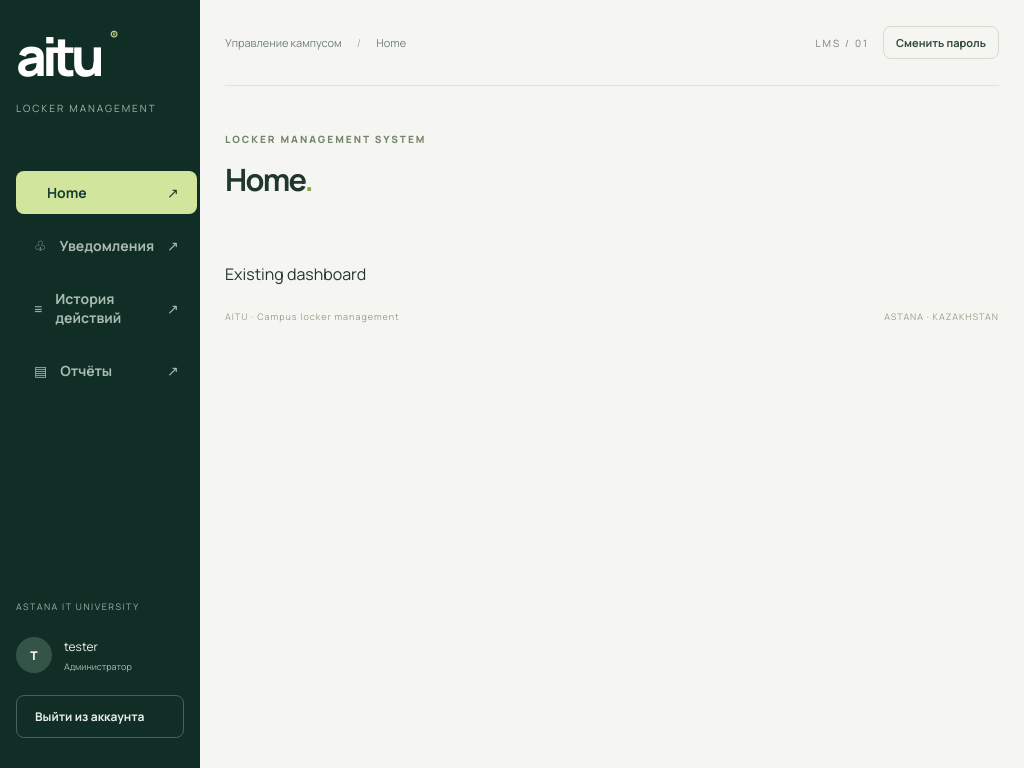
Test case: role navigation › loads administrative resources only when the administrator selects their screen
The width and height of the screenshot is (1024, 768).
Click the button "≡ История действий ↗" at point(106, 308), box left=16, top=277, right=197, bottom=339
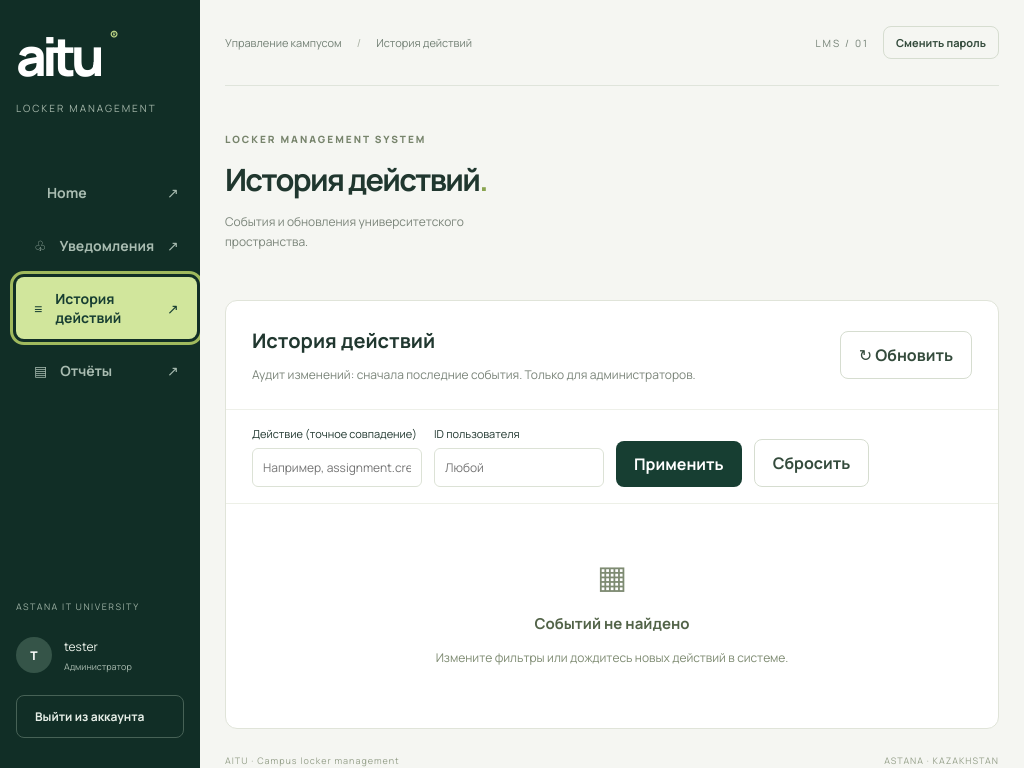
Check: the heading "Событий не найдено" is shown, box left=534, top=613, right=690, bottom=634
Click the button "▤ Отчёты ↗" at point(106, 370), box left=16, top=349, right=197, bottom=392
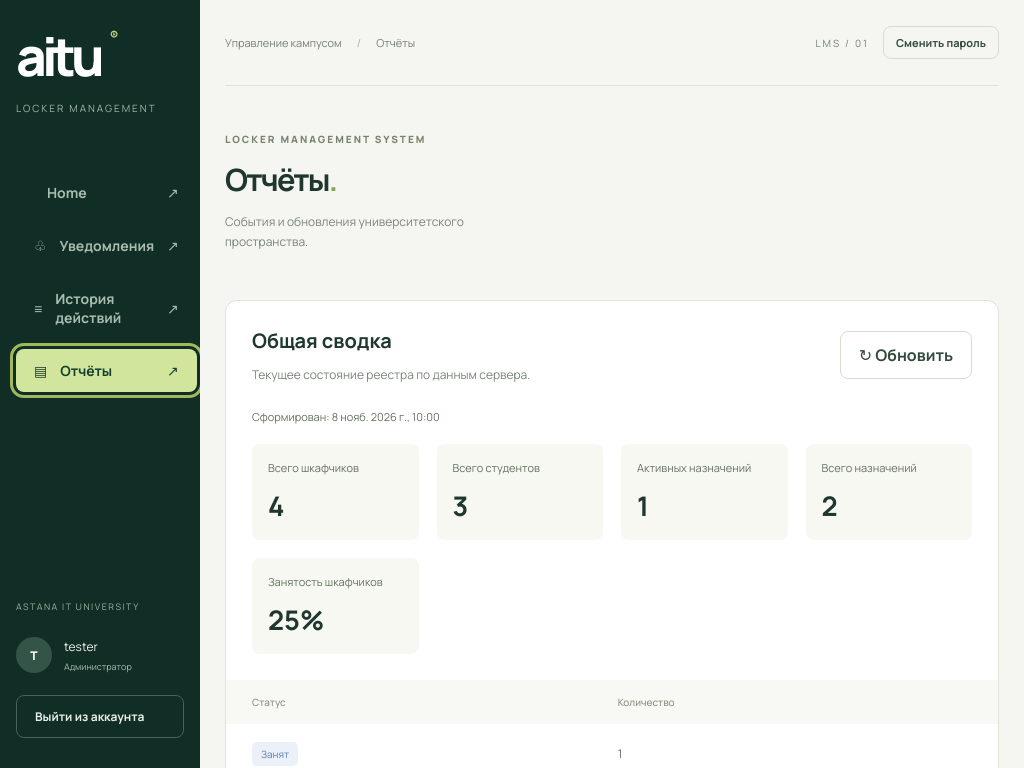
Check: the text "25%" is shown, box left=268, top=601, right=324, bottom=638
